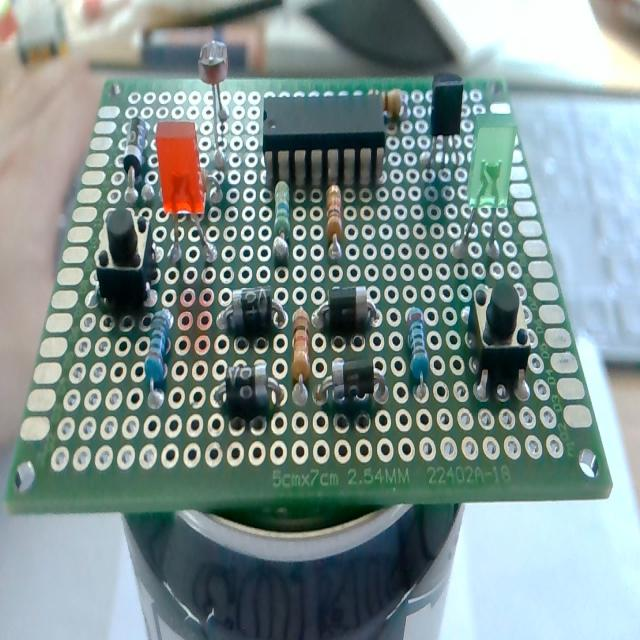IC: (260, 92, 388, 182)
cds: (198, 38, 230, 147)
diode: (213, 360, 284, 419), (316, 358, 386, 406), (216, 288, 285, 336), (313, 286, 379, 332), (123, 113, 155, 204)
led: (156, 119, 216, 266), (462, 120, 516, 264)
resistor: (144, 307, 174, 389), (406, 306, 430, 388), (292, 308, 310, 388), (273, 180, 290, 260), (326, 182, 342, 247), (383, 88, 402, 120)
switch: (469, 278, 533, 399), (96, 207, 156, 310)
transistor: (423, 69, 465, 174)
